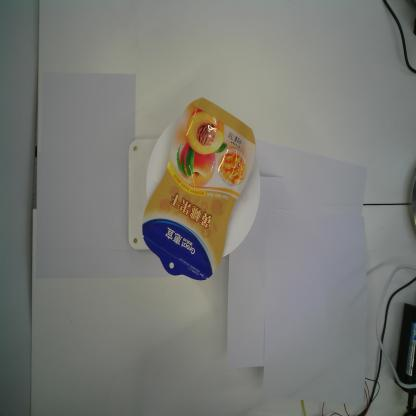Dried Fruit: (141, 96, 256, 283)
